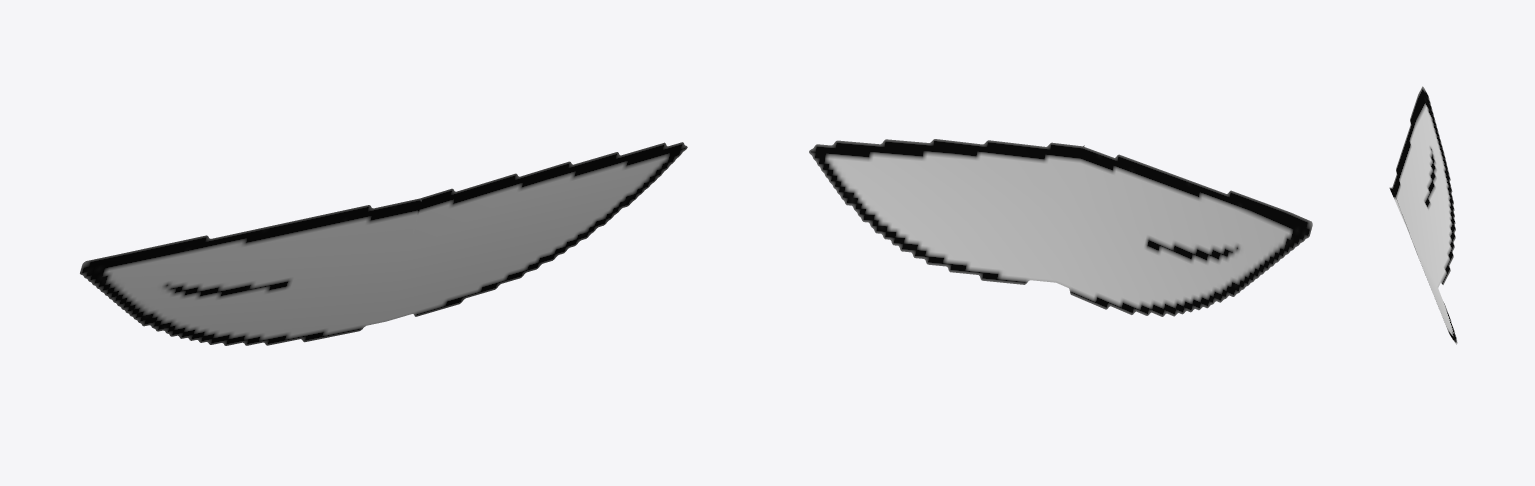
File: mouth.gltf
3 renders of one model, left to right at view 1: azimuth 30°, elevation 25°; view 2: azimuth 150°, elevation 25°; view 3: azimuth 270°, elevation 25°, orthographic. The views are drawn at different scales.
Parts seen in each view (by area): view 1: mouth; view 2: mouth; view 3: mouth.
Part boxes in pixels (bbox=[...]): mouth: bbox=[80, 142, 687, 345]; mouth: bbox=[809, 139, 1312, 316]; mouth: bbox=[1389, 86, 1457, 344].
Bounding box in the file's own units: 0.2938 × 0.1593 × 0.0883.
Materials: 1 (1 with a texture image).
